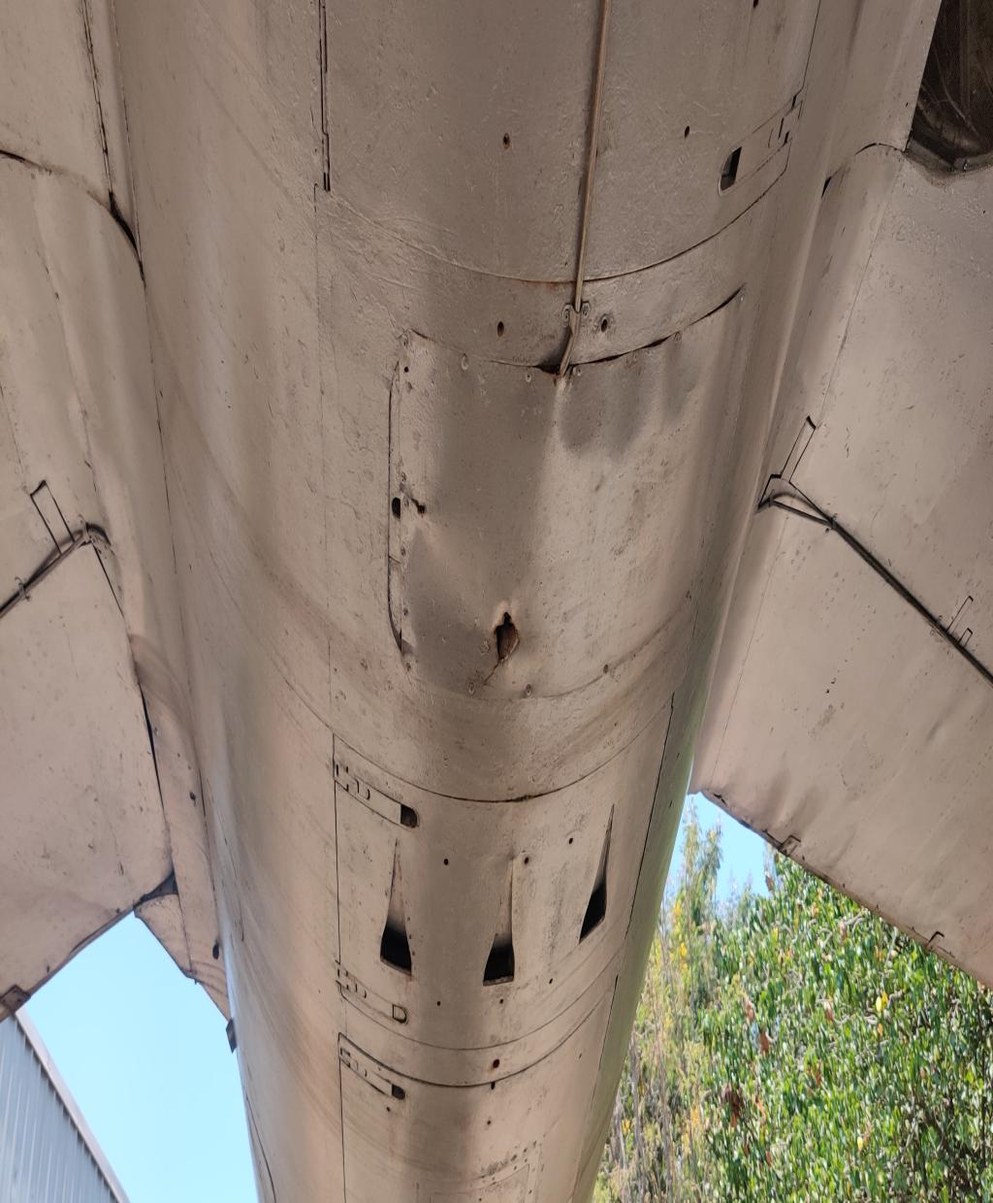corrosion: (404, 475, 428, 523)
crack: (489, 600, 521, 673)
dent: (562, 317, 707, 466), (396, 611, 419, 679)
